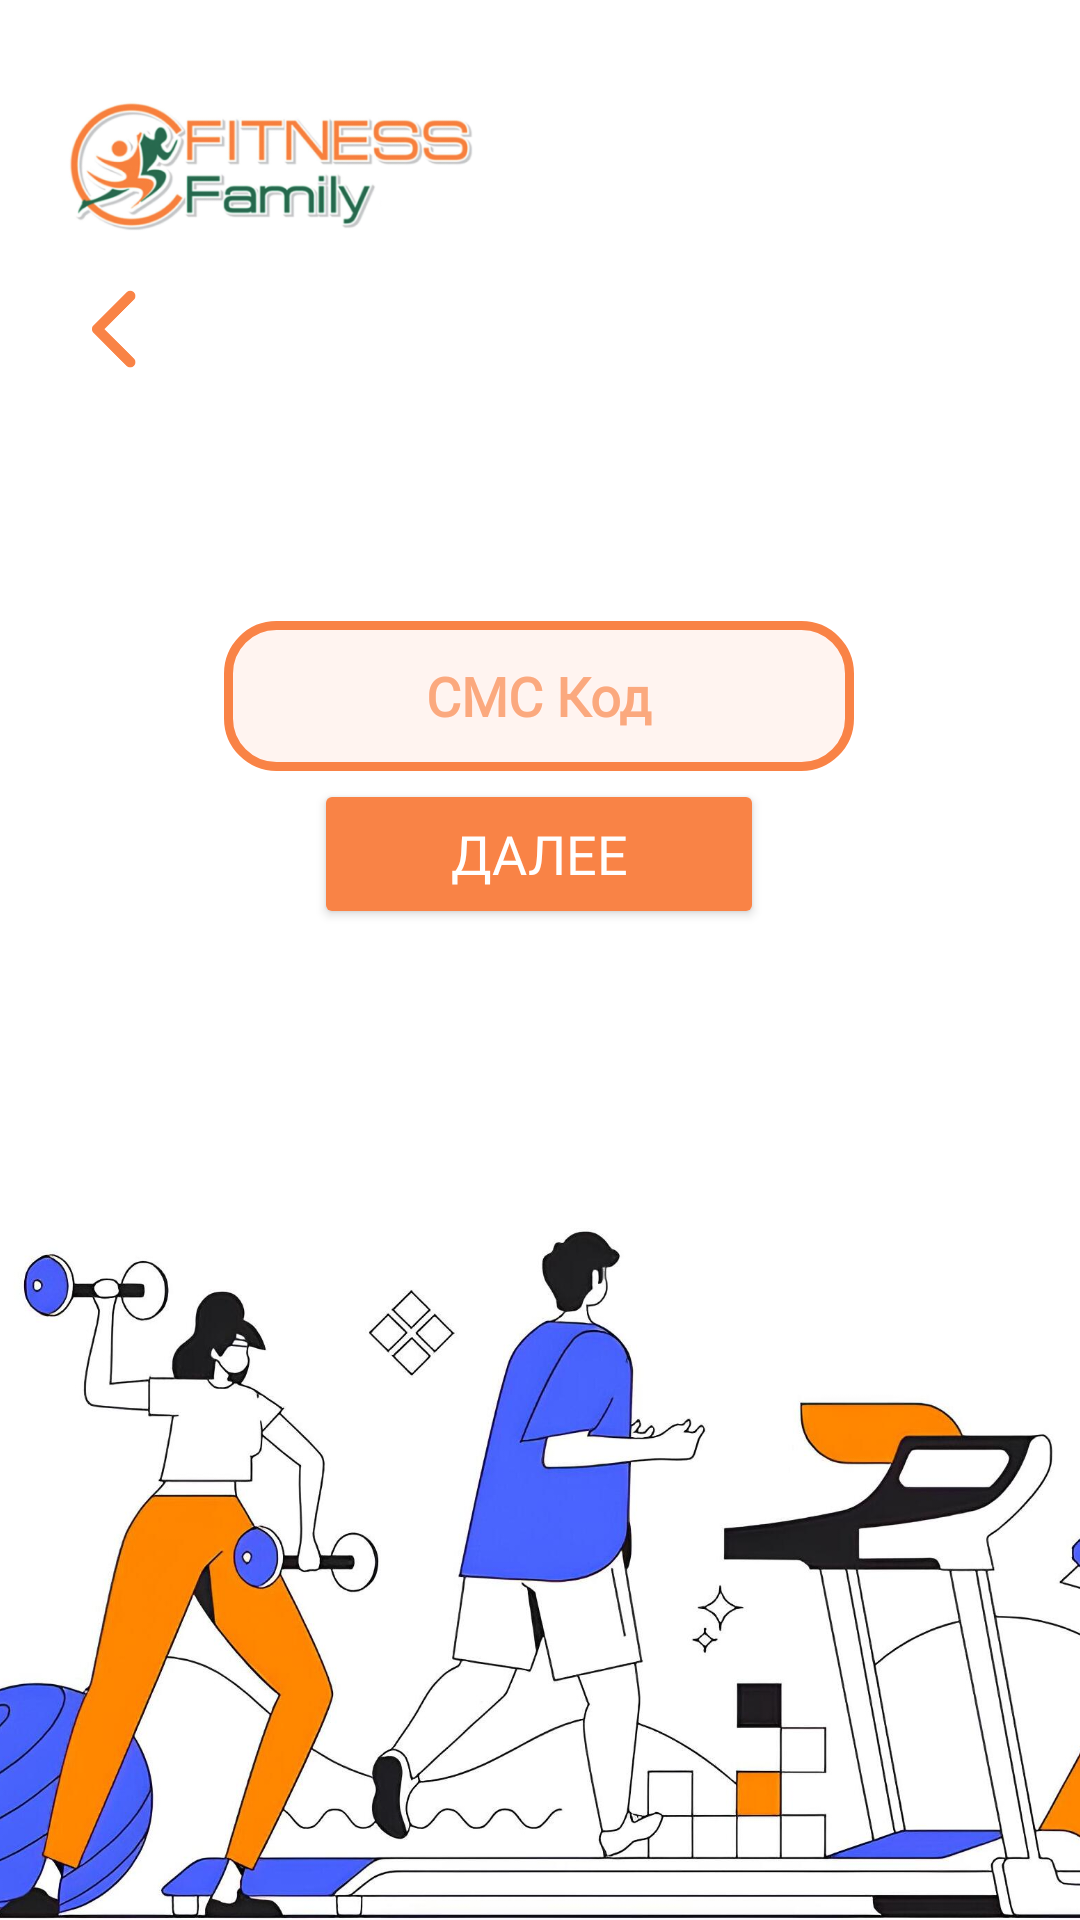

Screen size 1080px x 1920px. Icon name, then its center in pixels as (x=x, y=y):
arrow: (x=114, y=329)
